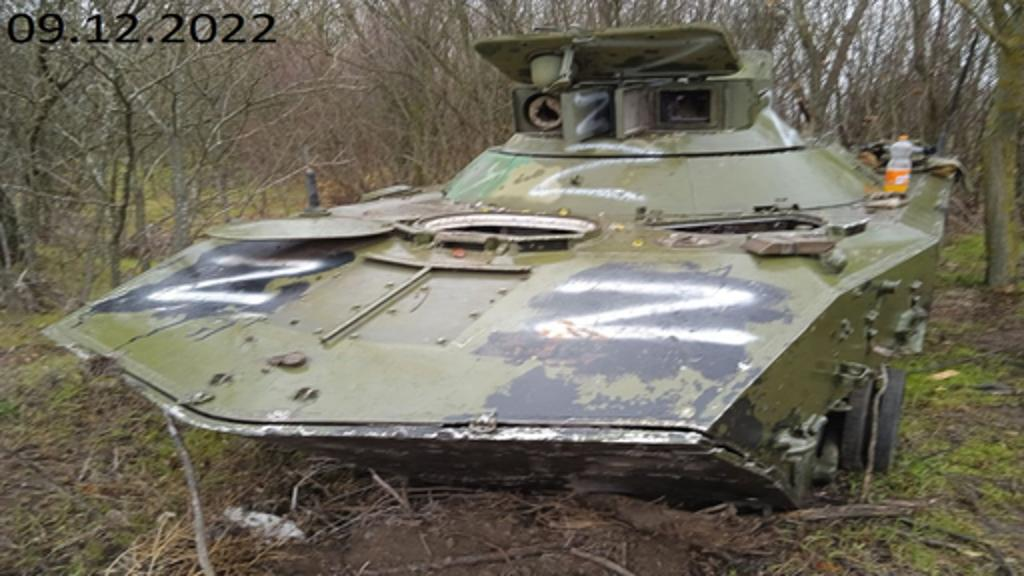APC-IFV: (38, 30, 956, 536)
